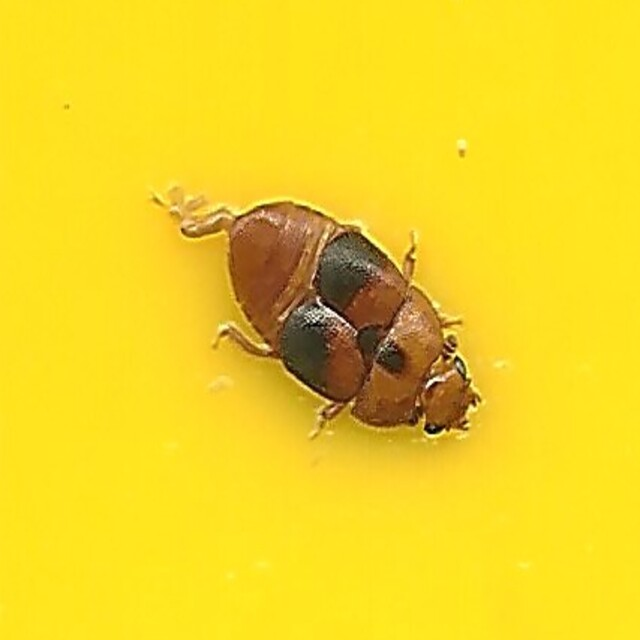Coleoptera: (150, 189, 490, 451)
